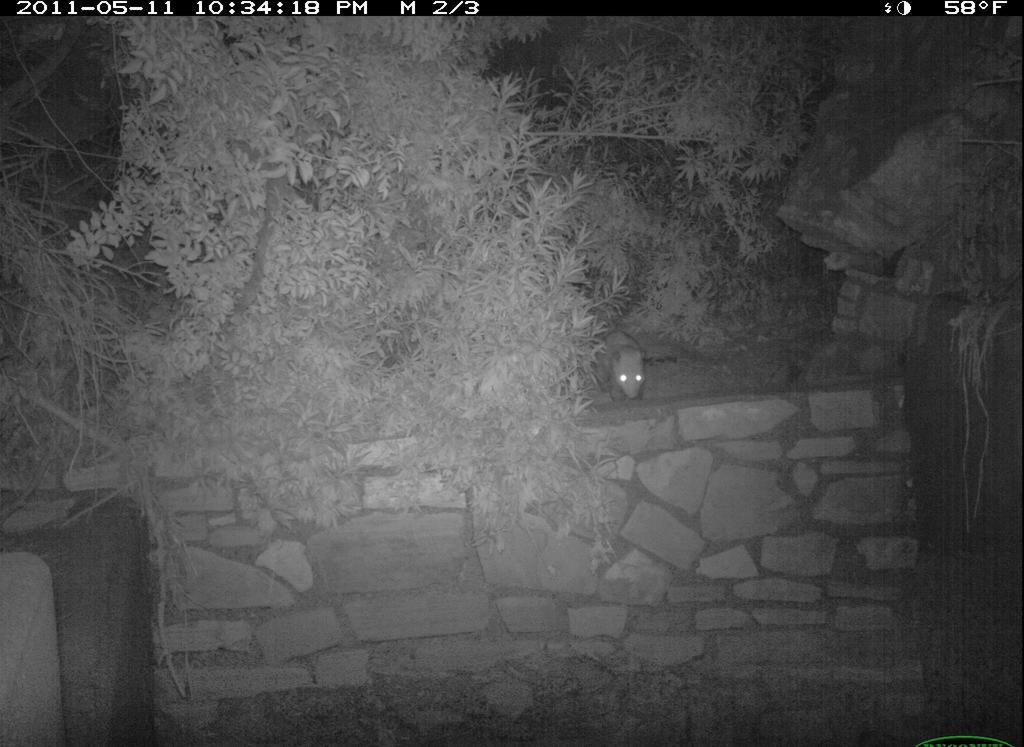opossum: (564, 301, 655, 408)
